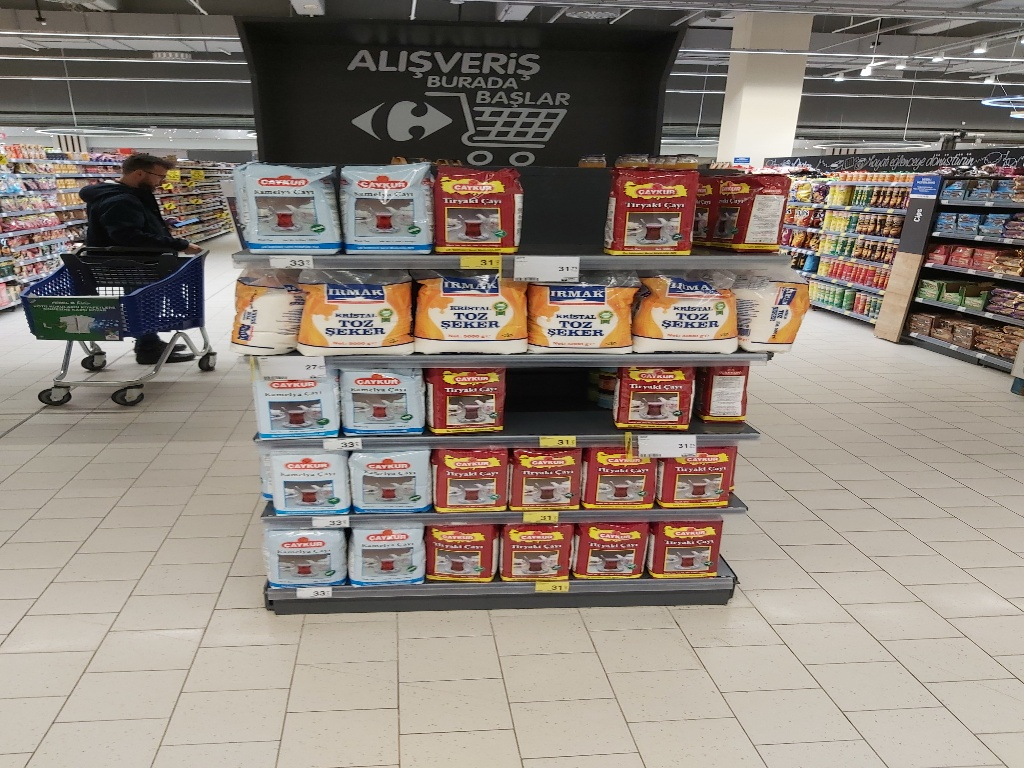urun: (426, 157, 534, 247), (598, 157, 705, 247), (330, 159, 438, 248), (302, 262, 411, 349), (416, 264, 525, 351), (531, 274, 636, 352), (636, 270, 740, 348), (708, 164, 796, 255), (230, 264, 302, 356), (257, 444, 348, 516), (342, 444, 433, 516), (426, 362, 515, 435), (250, 361, 338, 434), (337, 360, 425, 433), (612, 357, 700, 430), (426, 442, 511, 507), (506, 444, 590, 509), (495, 518, 577, 579), (581, 444, 663, 504), (653, 447, 735, 507), (265, 525, 347, 585), (344, 520, 426, 580), (421, 521, 503, 581), (576, 516, 658, 576), (648, 517, 730, 577), (703, 358, 755, 426)
urun2: (219, 161, 338, 250)
